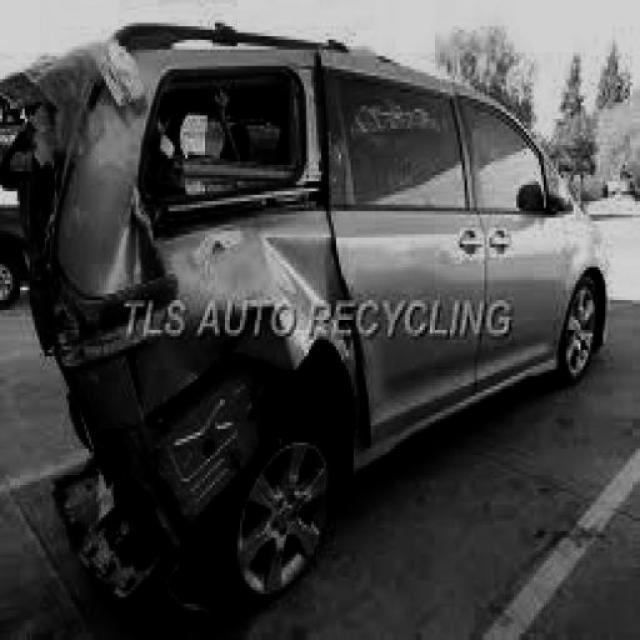car damage: (0, 33, 373, 627)
